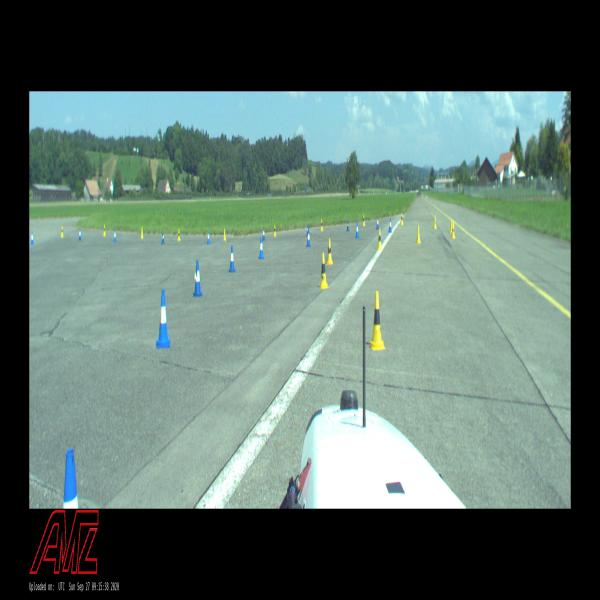blue_cone: (156, 289, 170, 349), (193, 260, 202, 296), (229, 245, 235, 272), (258, 237, 264, 259), (306, 230, 310, 247), (356, 222, 360, 238), (78, 229, 82, 241), (207, 230, 210, 245), (389, 218, 392, 232), (114, 229, 117, 243), (376, 216, 379, 230), (31, 231, 34, 244), (161, 231, 164, 244), (346, 219, 349, 231), (306, 224, 309, 236), (263, 227, 265, 241)
yellow_cone: (369, 291, 385, 350), (319, 252, 329, 289), (327, 238, 333, 265), (416, 225, 421, 244), (378, 228, 382, 250), (452, 222, 455, 239), (140, 227, 144, 239), (103, 224, 106, 236), (274, 224, 276, 237), (178, 228, 180, 241), (224, 228, 226, 241), (434, 215, 436, 228), (450, 219, 452, 232), (321, 219, 323, 231), (363, 214, 365, 226), (401, 213, 403, 225), (61, 226, 63, 237)
